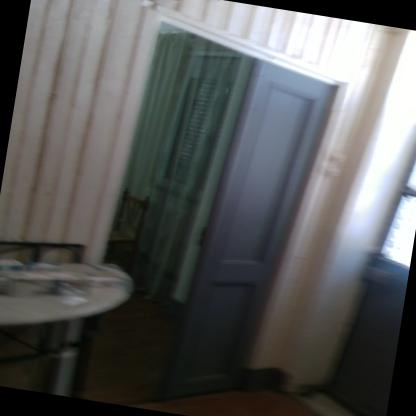open: (54, 0, 363, 415)
